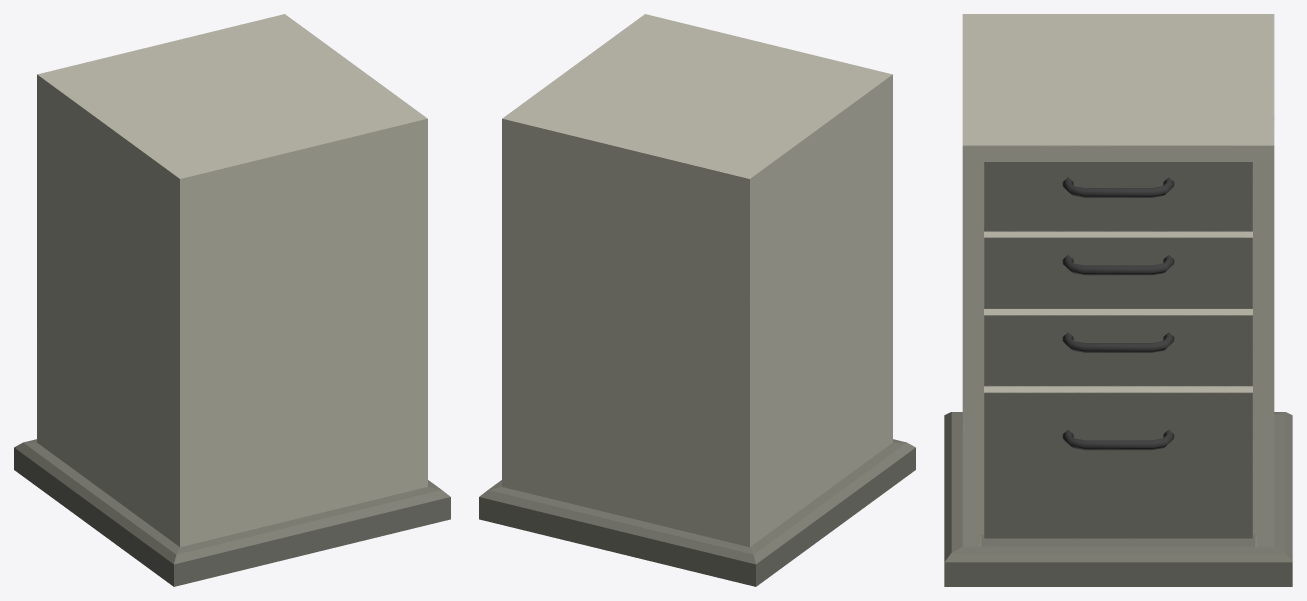
Rendered from bedsidedrawer.glb.
The picture shows the model from 3 angles, left to right: view 1: azimuth 30°, elevation 25°; view 2: azimuth 150°, elevation 25°; view 3: azimuth 270°, elevation 25°; orthographic projection. The views are drawn at different scales.
Visible parts, largest first — view 1: Commode-material; view 2: Commode-material; view 3: Commode-material.
Boxes of the visible parts, box(x1,y1,x2,y2) form: Commode-material: box(14, 14, 450, 586); Commode-material: box(479, 14, 915, 586); Commode-material: box(944, 14, 1292, 586).
Size of the model in its own units: 0.0762 by 0.1043 by 0.0759.
1 material, 1 textured.
